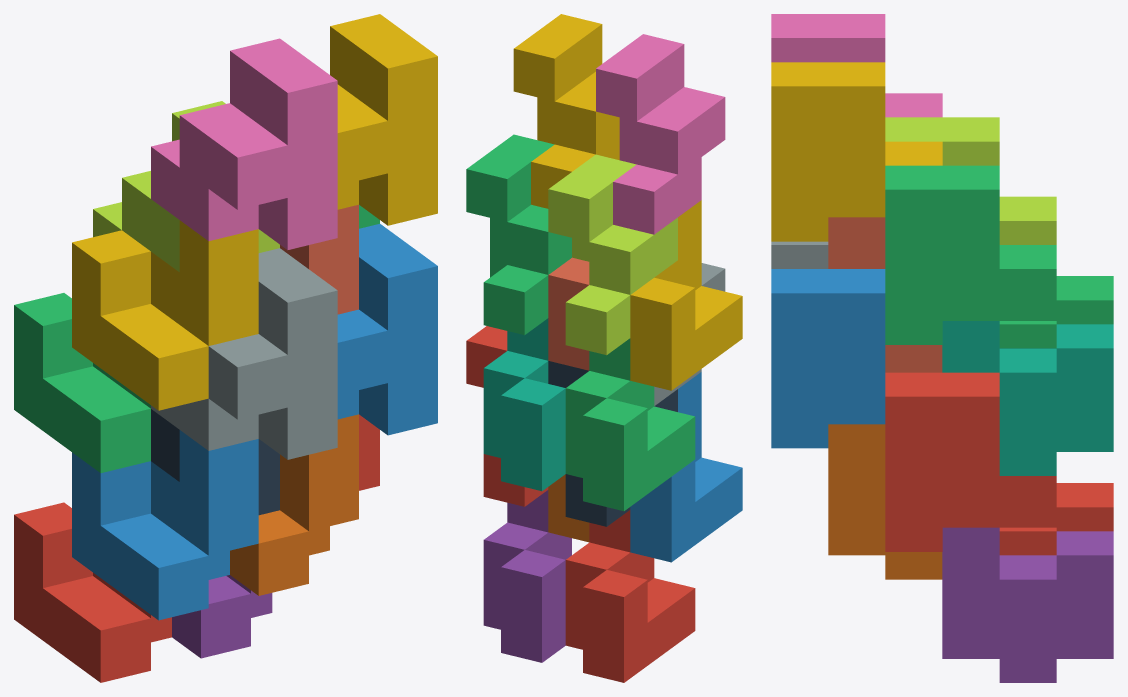
The model's file is tiling.obj.
3 views of the same model, side by side, from view 1: azimuth 30°, elevation 25°; view 2: azimuth 150°, elevation 25°; view 3: azimuth 270°, elevation 25° (orthographic). The views are drawn at different scales.
Parts seen in each view (by area): view 1: copy_2_domain_4, copy_1_domain_4, copy_1_domain_2, copy_2_domain_2, copy_2_domain_8, copy_2_domain_6, copy_1_domain_1, copy_1_domain_3, copy_1_domain_6, copy_2_domain_3, copy_1_domain_5, copy_1_domain_8 (+2 smaller); view 2: copy_2_domain_4, copy_1_domain_1, copy_1_domain_3, copy_2_domain_3, copy_2_domain_7, copy_2_domain_8, copy_1_domain_4, copy_1_domain_5, copy_1_domain_7, copy_1_domain_2, copy_2_domain_5, copy_1_domain_8 (+3 smaller); view 3: copy_2_domain_7, copy_2_domain_5, copy_1_domain_5, copy_2_domain_8, copy_2_domain_6, copy_1_domain_7, copy_1_domain_6, copy_2_domain_3, copy_2_domain_4, copy_1_domain_8, copy_1_domain_1, copy_1_domain_3 (+1 smaller).
Boxes of the visible parts, bbox=[...] form: copy_2_domain_4: bbox=[151, 38, 337, 249]; copy_1_domain_4: bbox=[72, 220, 258, 410]; copy_1_domain_2: bbox=[72, 430, 258, 620]; copy_2_domain_2: bbox=[151, 248, 337, 459]; copy_2_domain_8: bbox=[330, 14, 437, 225]; copy_2_domain_6: bbox=[337, 224, 437, 435]; copy_1_domain_1: bbox=[14, 502, 171, 682]; copy_1_domain_3: bbox=[14, 293, 150, 472]; copy_1_domain_6: bbox=[230, 414, 358, 595]; copy_2_domain_3: bbox=[93, 101, 279, 271]; copy_1_domain_5: bbox=[172, 575, 272, 658]; copy_1_domain_8: bbox=[280, 204, 358, 314]; copy_2_domain_4: bbox=[596, 34, 725, 234]; copy_1_domain_1: bbox=[565, 510, 695, 682]; copy_1_domain_3: bbox=[565, 338, 695, 511]; copy_2_domain_3: bbox=[548, 154, 677, 355]; copy_2_domain_7: bbox=[466, 134, 571, 335]; copy_2_domain_8: bbox=[513, 14, 619, 208]; copy_1_domain_4: bbox=[630, 200, 742, 390]; copy_1_domain_5: bbox=[483, 490, 571, 662]; copy_1_domain_7: bbox=[483, 318, 565, 491]; copy_1_domain_2: bbox=[630, 372, 742, 562]; copy_2_domain_5: bbox=[466, 326, 548, 506]; copy_1_domain_8: bbox=[548, 257, 589, 370]; copy_2_domain_7: bbox=[885, 165, 1056, 344]; copy_2_domain_5: bbox=[885, 372, 1056, 551]; copy_1_domain_5: bbox=[942, 527, 1113, 682]; copy_2_domain_8: bbox=[771, 62, 942, 241]; copy_2_domain_6: bbox=[771, 269, 885, 448]; copy_1_domain_7: bbox=[942, 321, 1113, 475]; copy_1_domain_6: bbox=[828, 424, 942, 579]; copy_2_domain_3: bbox=[885, 117, 1056, 244]; copy_2_domain_4: bbox=[771, 14, 942, 117]; copy_1_domain_8: bbox=[828, 217, 942, 372]; copy_1_domain_1: bbox=[999, 483, 1113, 555]; copy_1_domain_3: bbox=[999, 276, 1113, 348].
Bounding box in the file's own units: 5 × 12 × 6.
